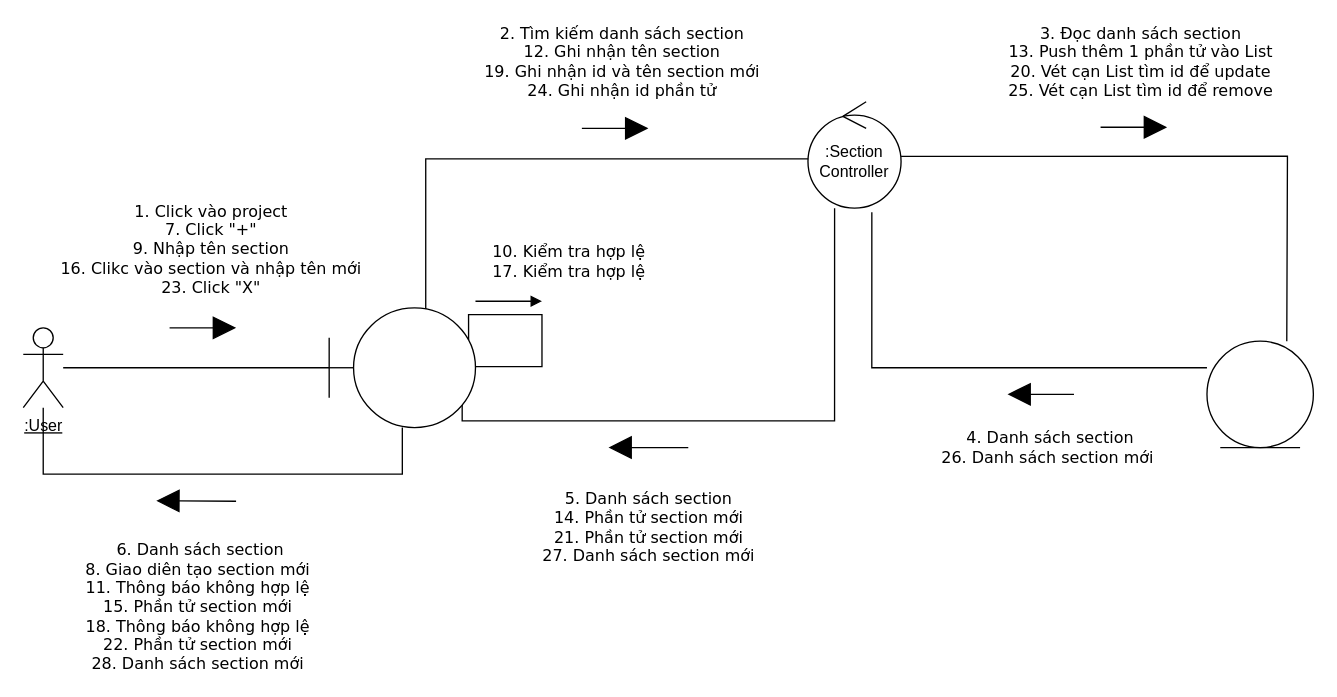
Image size: 1337x697. Some labels were removed from this diagram. The shapes that lost their labels are listed below. From the top down, each one's centre as x and y in pixels, then its label:
the point at 401,367: :Trang MyTask
the point at 1259,394: :Section
